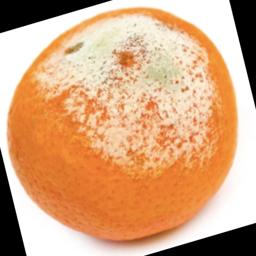Orange Rotten: (0, 4, 256, 256)
